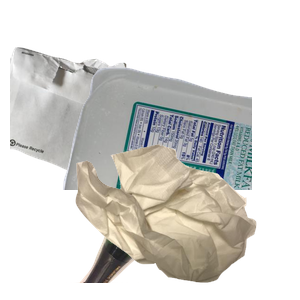glass: (66, 120, 279, 300)
paper: (10, 45, 250, 225)
plastic: (60, 65, 300, 245)
trash: (73, 142, 300, 300)
